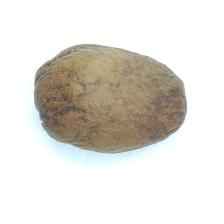NG: (32, 68, 84, 137)
